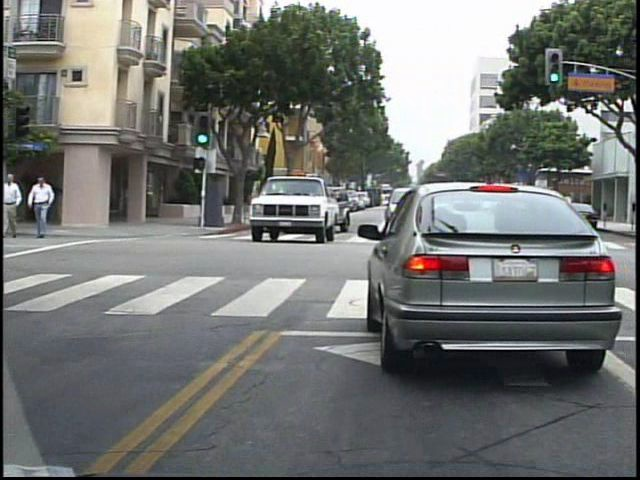person: (2, 168, 33, 242), (35, 173, 63, 243)
